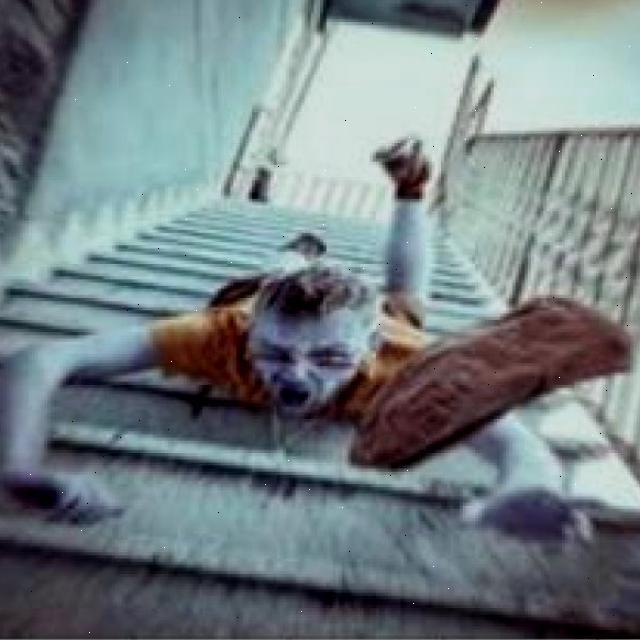stair: (90, 364, 531, 618)
